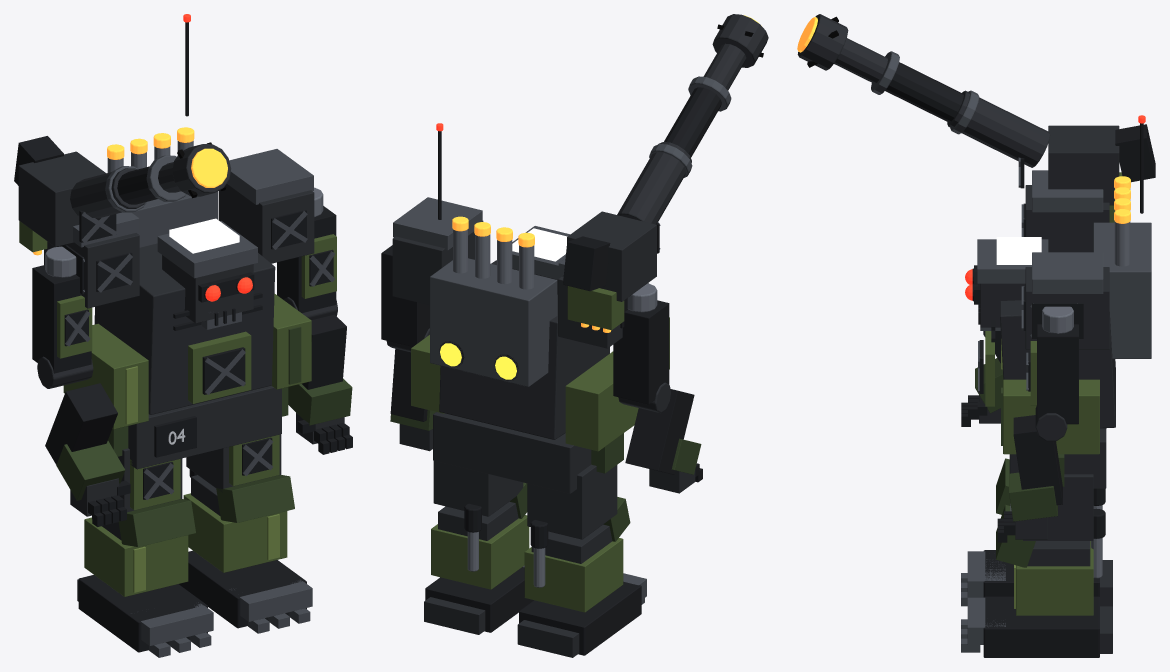
File: eradicator-mk4.glb
3 views of the same model, side by side, from view 1: azimuth 30°, elevation 25°; view 2: azimuth 150°, elevation 25°; view 3: azimuth 270°, elevation 25° (orthographic). The views are drawn at different scales.
Parts seen in each view (by area): view 1: Eradicator MK IV; view 2: Eradicator MK IV; view 3: Eradicator MK IV.
Boxes of the visible parts, <box> form: Eradicator MK IV: <box>14,14,352,657</box>; Eradicator MK IV: <box>381,14,768,657</box>; Eradicator MK IV: <box>797,14,1155,657</box>.
Bounding box in the file's own units: 1.32 × 2.55 × 1.5.
